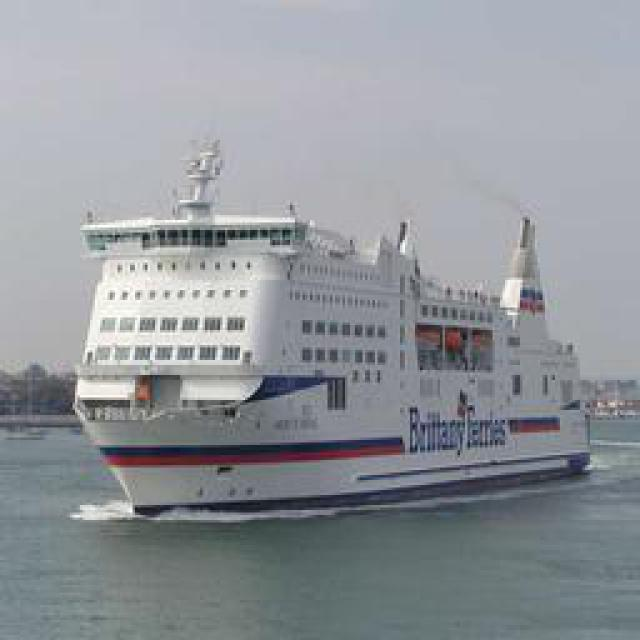Ship: (82, 138, 600, 516)
